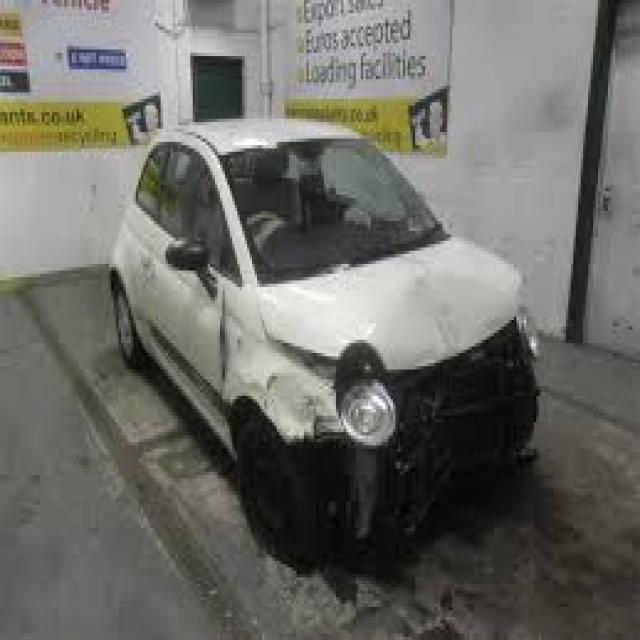moderate: (222, 284, 640, 546)
